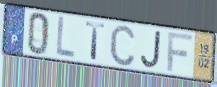0: (26, 11, 51, 56)
C: (108, 23, 137, 68)
F: (166, 30, 194, 73)
J: (139, 29, 163, 70)
L: (55, 14, 77, 61)
T: (85, 20, 107, 62)
